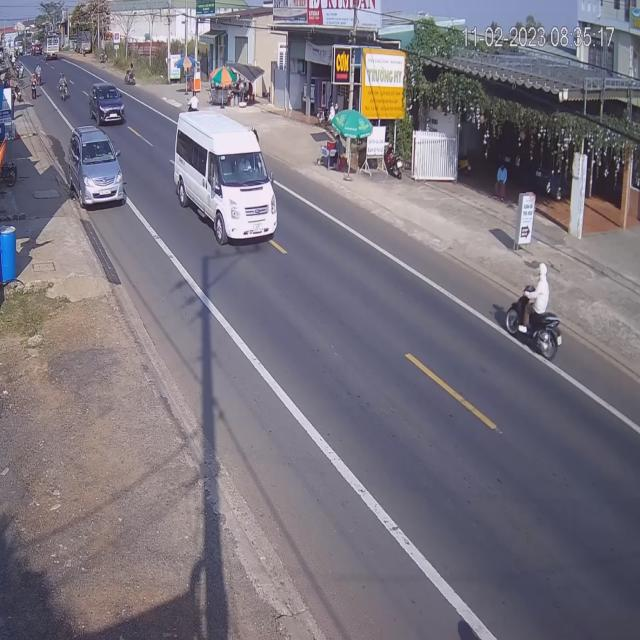bus: (172, 109, 276, 245)
car: (68, 128, 125, 211), (91, 85, 126, 126)
motorbike: (508, 266, 564, 361), (60, 75, 70, 103), (127, 65, 136, 86)
